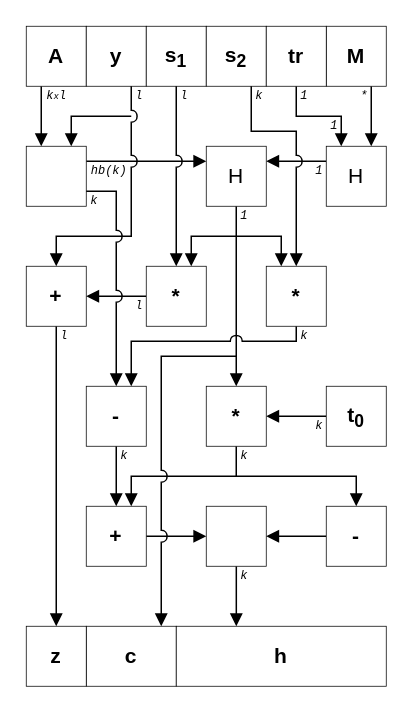
This 413x713 diagram has some shape labels left out. The centre of each missing label's shape, as x and y in pixels:
HB( * ): the point at 55,175
MH: the point at 235,535
